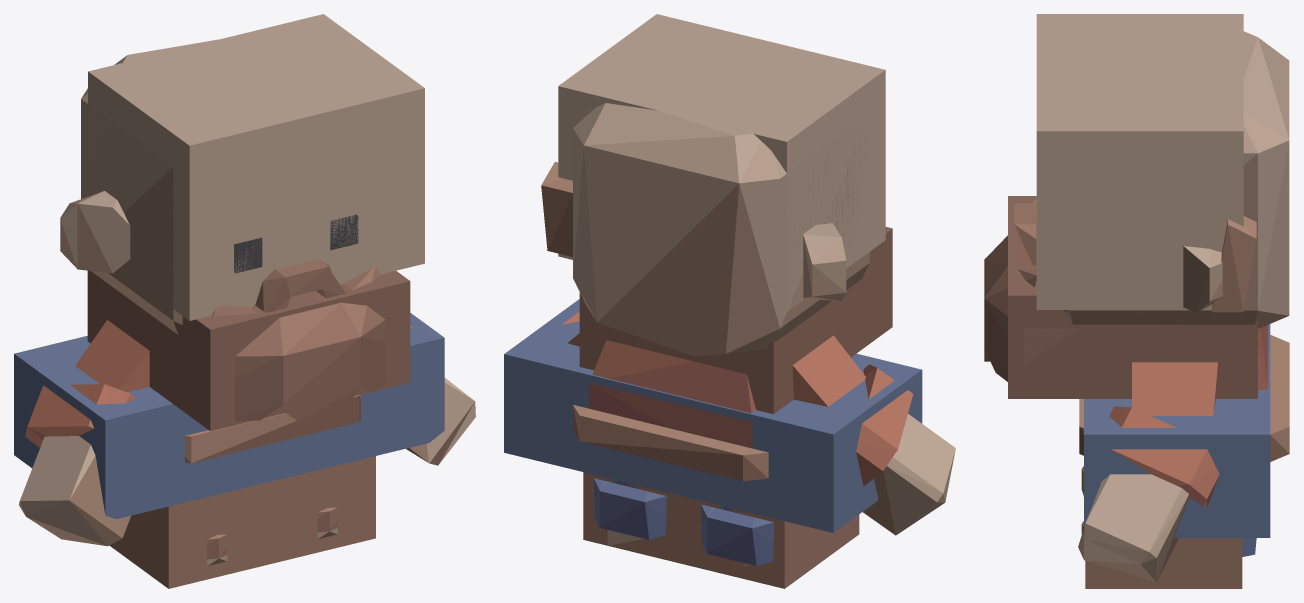
Rendered from person.male-b.glb.
3 views of the same model, side by side, from view 1: azimuth 30°, elevation 25°; view 2: azimuth 150°, elevation 25°; view 3: azimuth 270°, elevation 25° (orthographic). The views are drawn at different scales.
Visible parts, largest first — view 1: far, near; view 2: near, far; view 3: far, near.
Boxes of the visible parts, x1=… form: far: x1=14, y1=14, x2=444, y2=588; near: x1=19, y1=29, x2=475, y2=566; near: x1=541, y1=43, x2=955, y2=566; far: x1=504, y1=14, x2=922, y2=588; far: x1=1008, y1=14, x2=1270, y2=588; near: x1=984, y1=27, x2=1289, y2=582.
Size of the model in its own units: 1.71 by 1.7 by 1.
